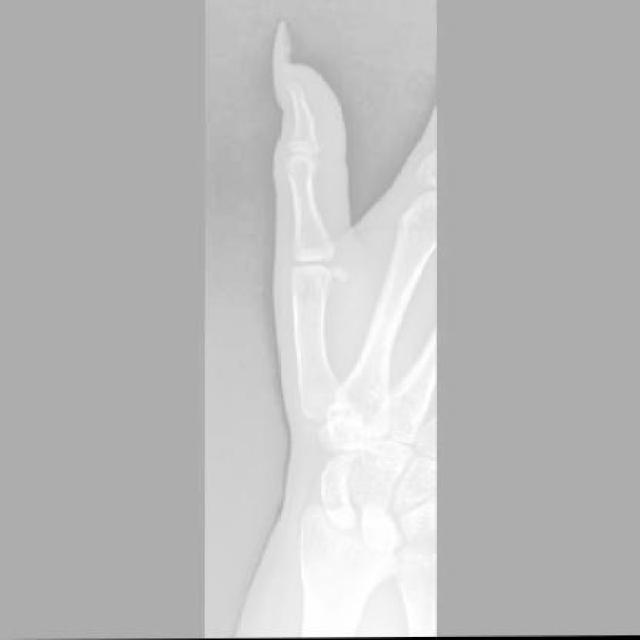Fracture: (325, 263, 348, 286)
